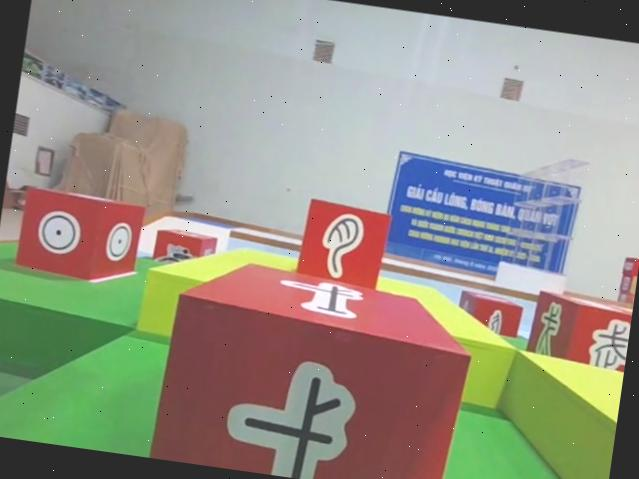R1: (150, 227, 220, 280)
R2 Fake: (525, 285, 634, 389), (295, 196, 394, 293)
R2 Real: (143, 245, 485, 479), (13, 183, 146, 290)
